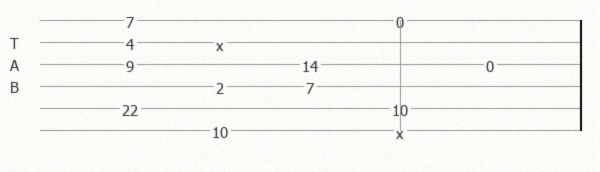0: (396, 13, 408, 28), (486, 57, 498, 72)
10: (212, 123, 232, 138), (392, 101, 412, 116)
14: (302, 57, 322, 72)
2: (216, 79, 228, 94)
22: (122, 101, 142, 116)
4: (126, 35, 138, 50)
7: (126, 13, 138, 28), (306, 79, 318, 94)
9: (126, 57, 138, 72)
x: (216, 36, 228, 48), (396, 124, 408, 136)
